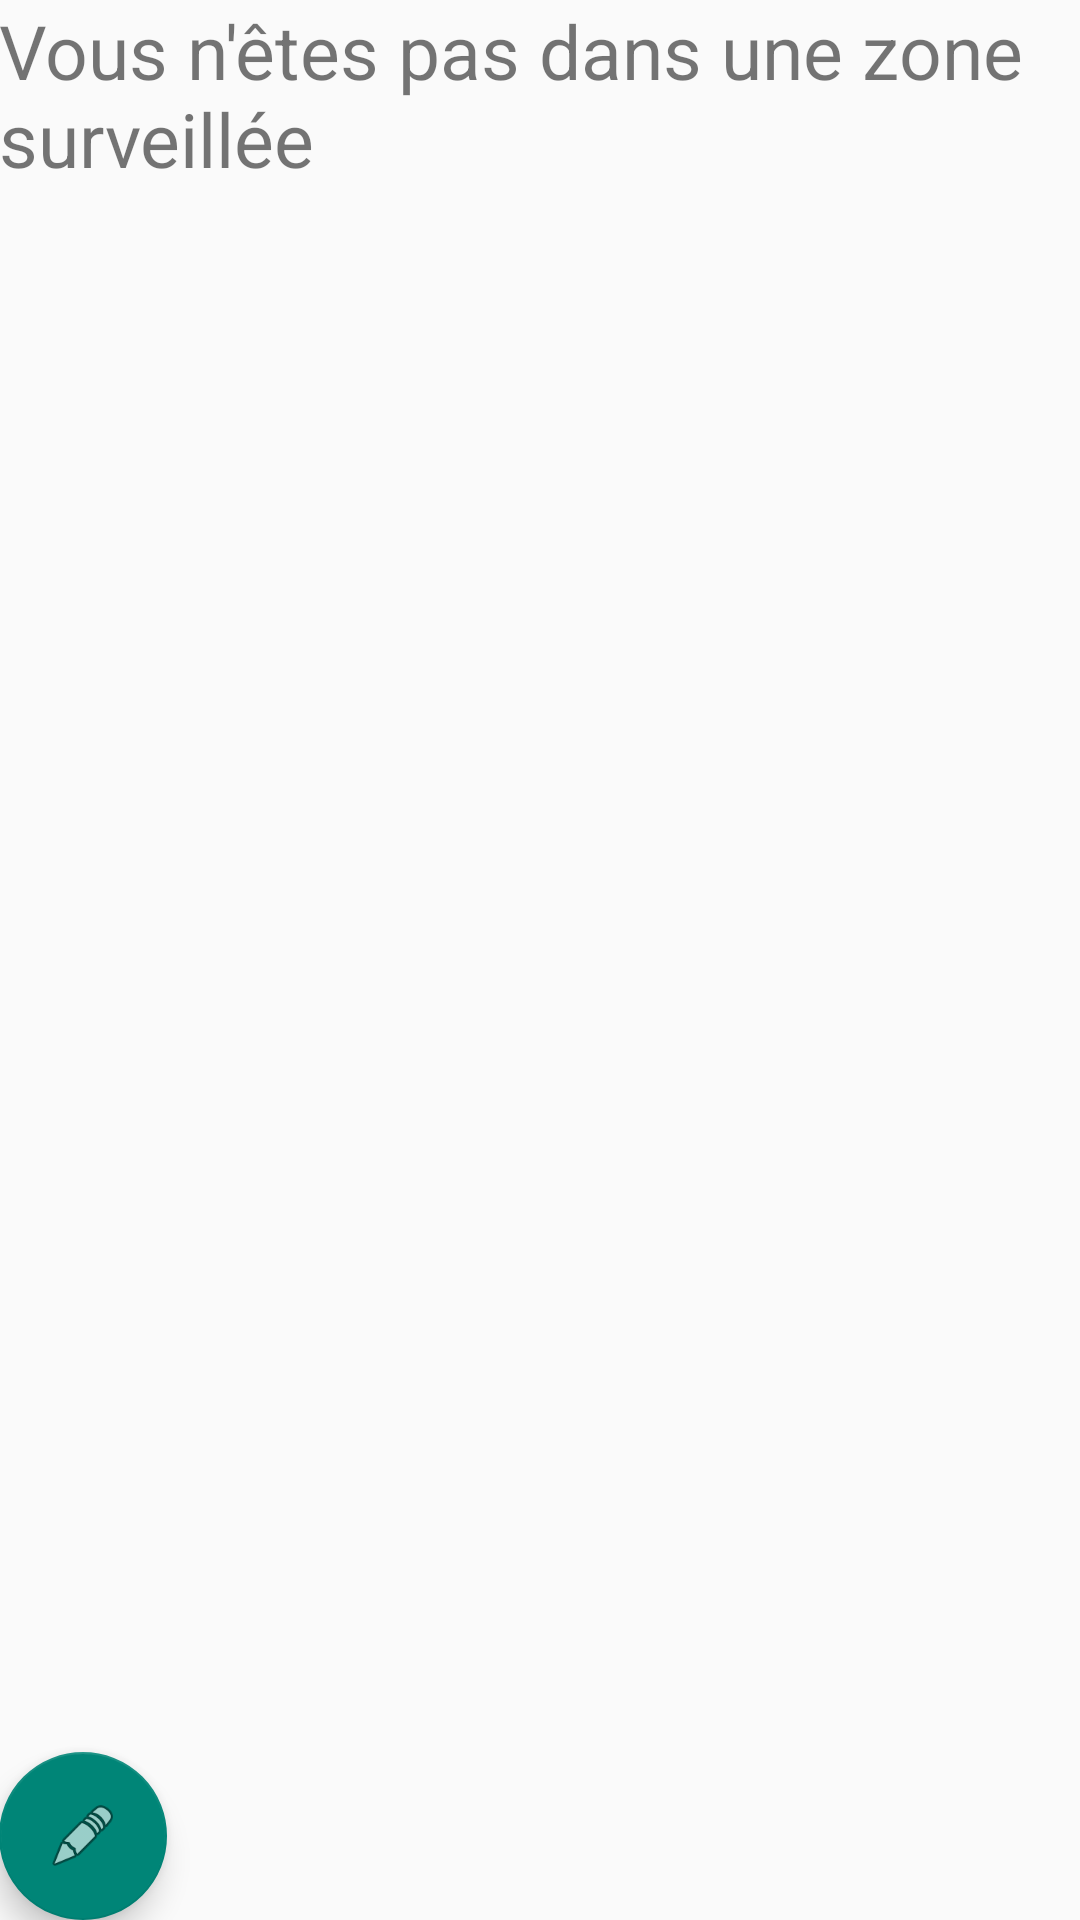

Point at icon controls on the screen. Image size 1080w x 1920h, points as (x=x, y=y).
edit: (x=83, y=1836)
